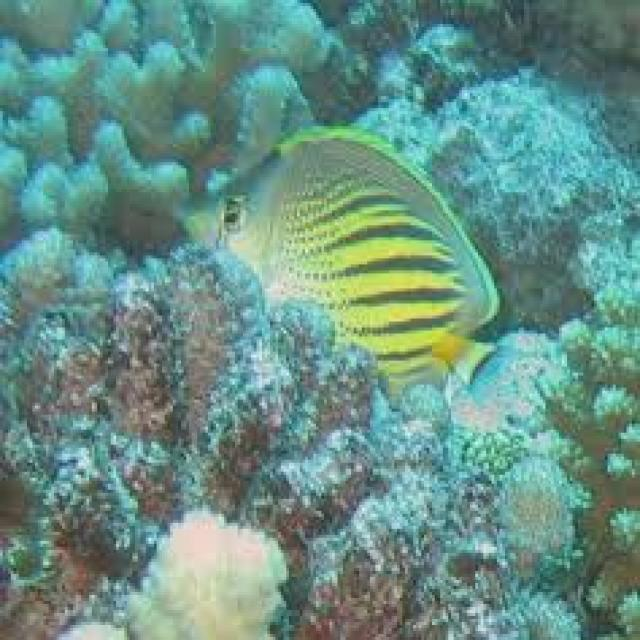ButterflyFish: (210, 104, 513, 410)
